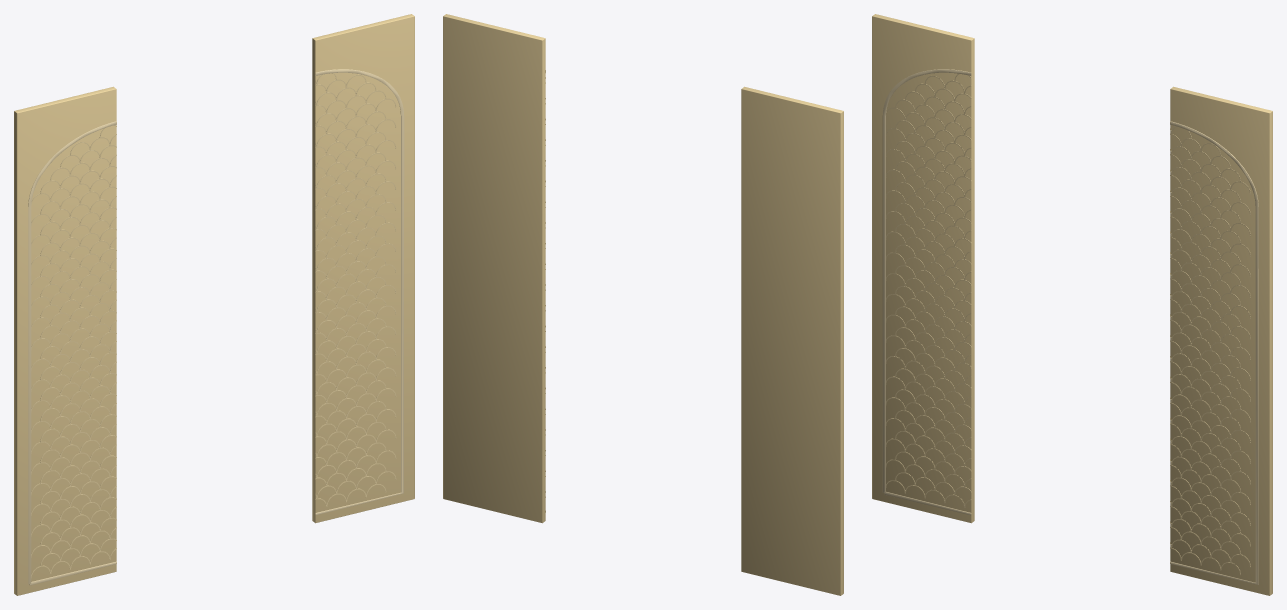
File: landing_door_TM022.glb
The picture shows the model from 3 angles, left to right: view 1: azimuth 30°, elevation 25°; view 2: azimuth 150°, elevation 25°; view 3: azimuth 330°, elevation 25°; orthographic projection.
Parts seen in each view (by area): view 1: Landing_Door_L, Landing_Door_R; view 2: Landing_Door_L, Landing_Door_R; view 3: Landing_Door_L, Landing_Door_R.
Boxes of the visible parts, box(x1,y1,x2,y2) form: Landing_Door_L: box(14, 86, 116, 595); Landing_Door_R: box(312, 14, 414, 523); Landing_Door_L: box(741, 86, 843, 595); Landing_Door_R: box(443, 14, 545, 523); Landing_Door_L: box(872, 14, 974, 523); Landing_Door_R: box(1170, 86, 1272, 595).
Size of the model in its own units: 1.81 by 2.1 by 0.0272.
